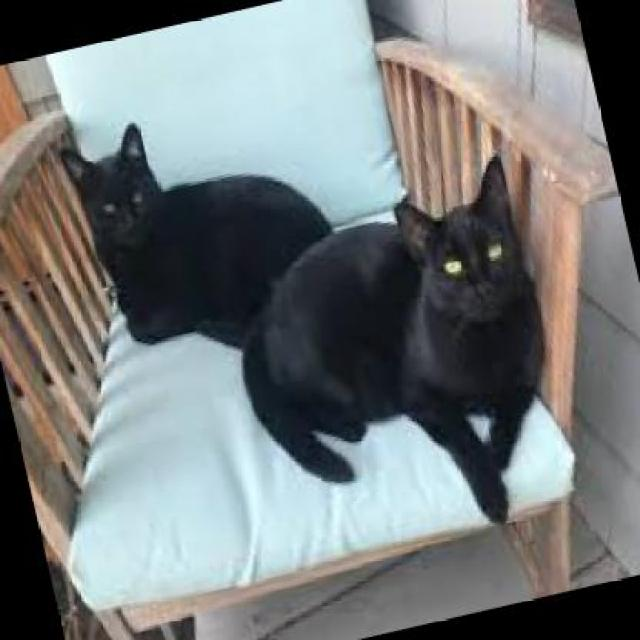animals: (189, 144, 597, 562), (41, 82, 353, 366)
